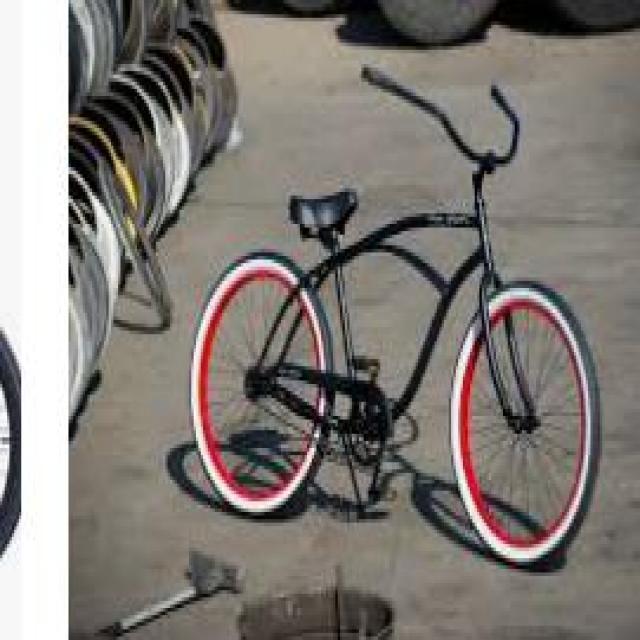bicycle: (197, 44, 606, 560)
